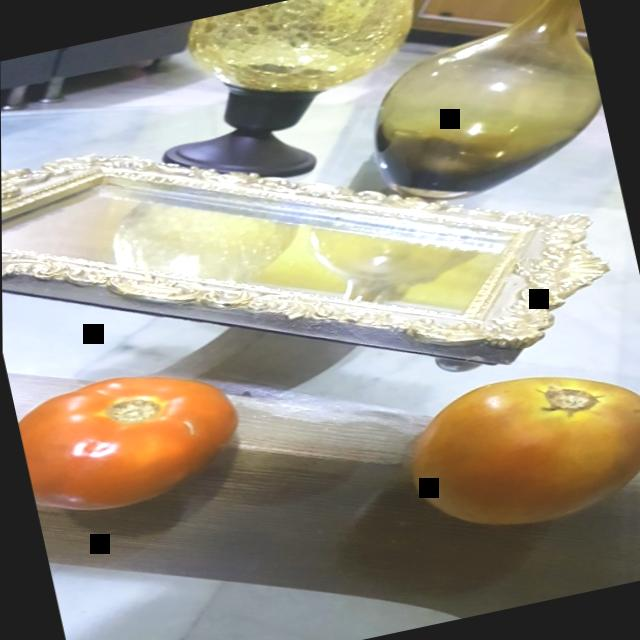tomato: (385, 327, 640, 548)
